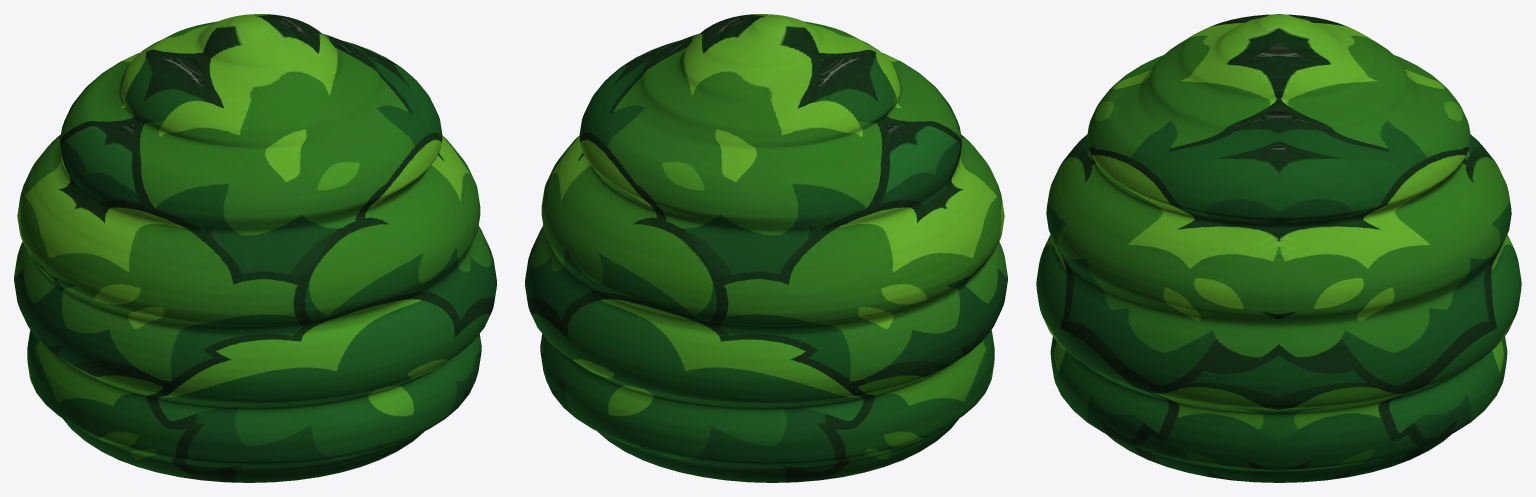
Rendered from bush_dark.glb.
3 views of the same model, side by side, from view 1: azimuth 30°, elevation 25°; view 2: azimuth 150°, elevation 25°; view 3: azimuth 270°, elevation 25° (orthographic).
Parts seen in each view (by area): view 1: bush_dark; view 2: bush_dark; view 3: bush_dark.
Boxes of the visible parts, x1=… form: bush_dark: x1=14, y1=14, x2=496, y2=482; bush_dark: x1=525, y1=14, x2=1007, y2=482; bush_dark: x1=1036, y1=14, x2=1521, y2=482.
Bounding box in the file's own units: 1 × 0.9432 × 1.
Materials: 1 (1 with a texture image).
